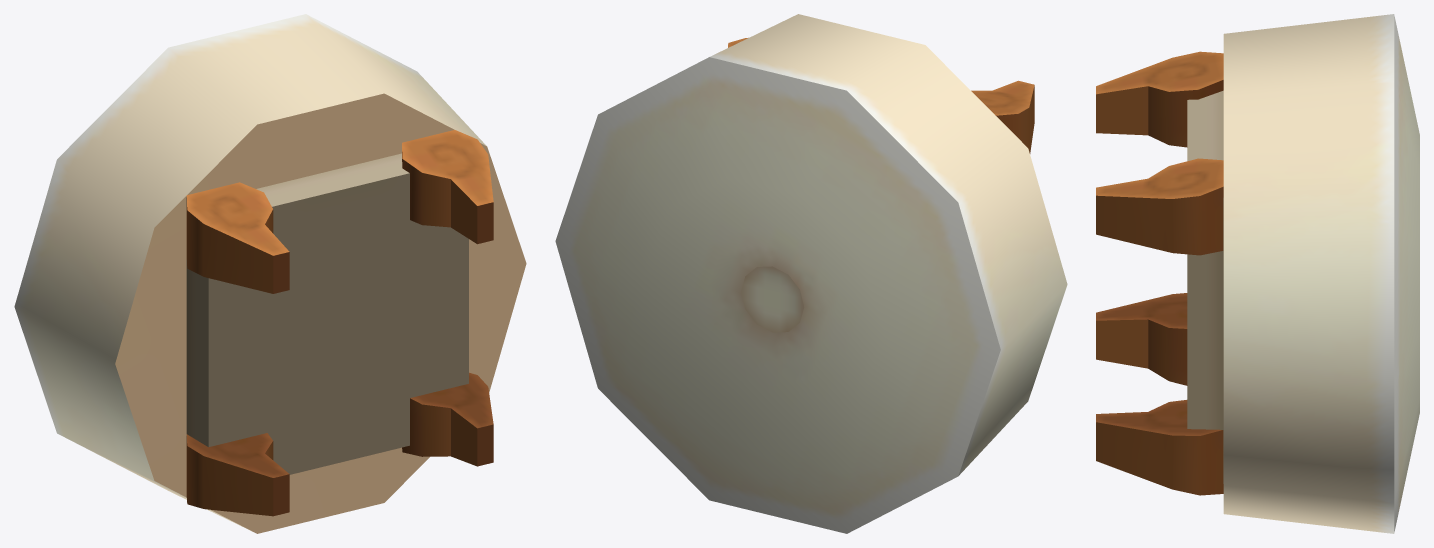
Rendered from Stool.fbx.
3 views of the same model, side by side, from view 1: azimuth 30°, elevation 25°; view 2: azimuth 150°, elevation 25°; view 3: azimuth 270°, elevation 25° (orthographic).
Visible parts, largest first — view 1: Stool; view 2: Stool; view 3: Stool.
Part boxes in pixels (x1,y1,x2,y2): Stool: [14, 14, 526, 533]; Stool: [555, 14, 1067, 533]; Stool: [1096, 14, 1419, 533].
Bounding box in the file's own units: 45.69 × 43.45 × 28.25.
